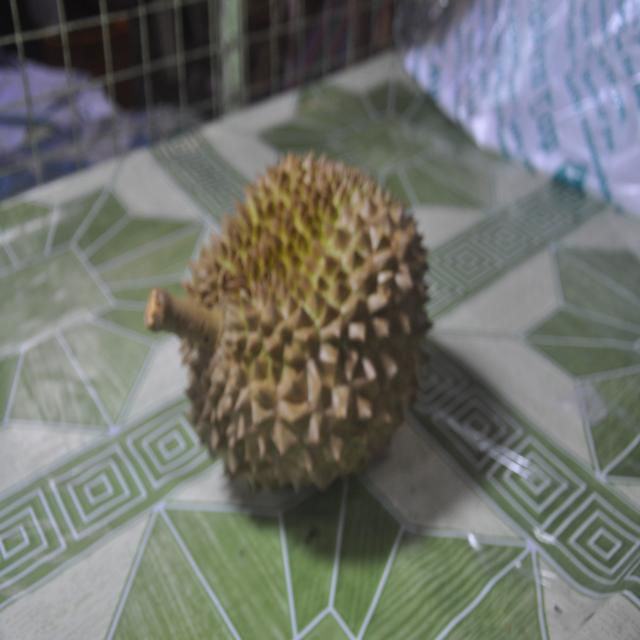mature: (145, 153, 429, 488)
